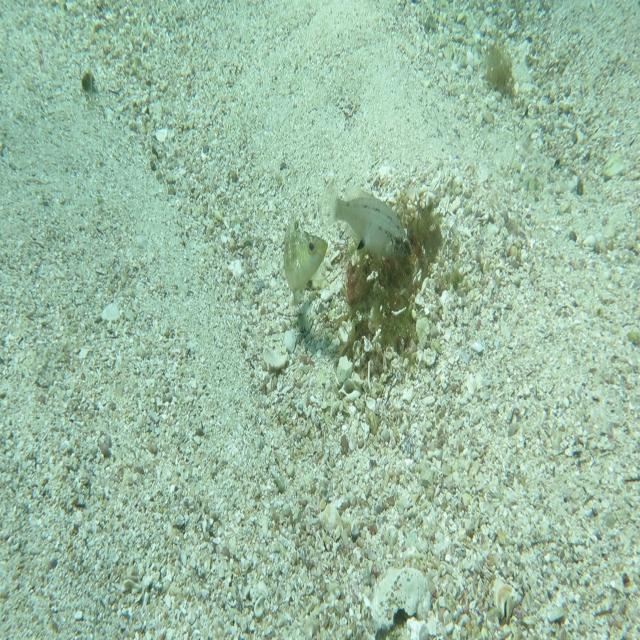BEND: (282, 211, 328, 307)
female: (318, 178, 414, 264)
nest: (310, 172, 464, 392)
